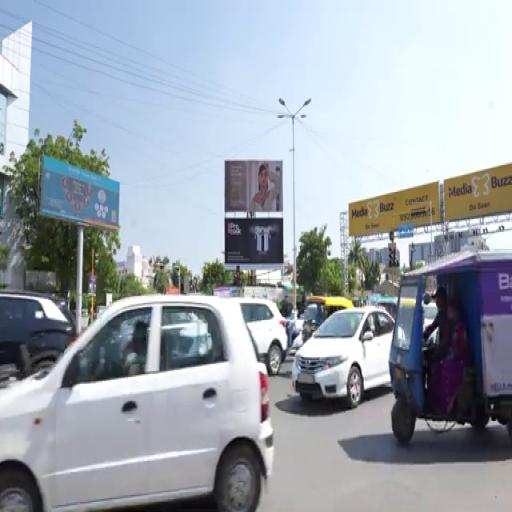Car: (0, 295, 274, 511), (292, 306, 394, 408), (0, 291, 76, 371), (233, 298, 287, 375), (424, 302, 437, 329)
